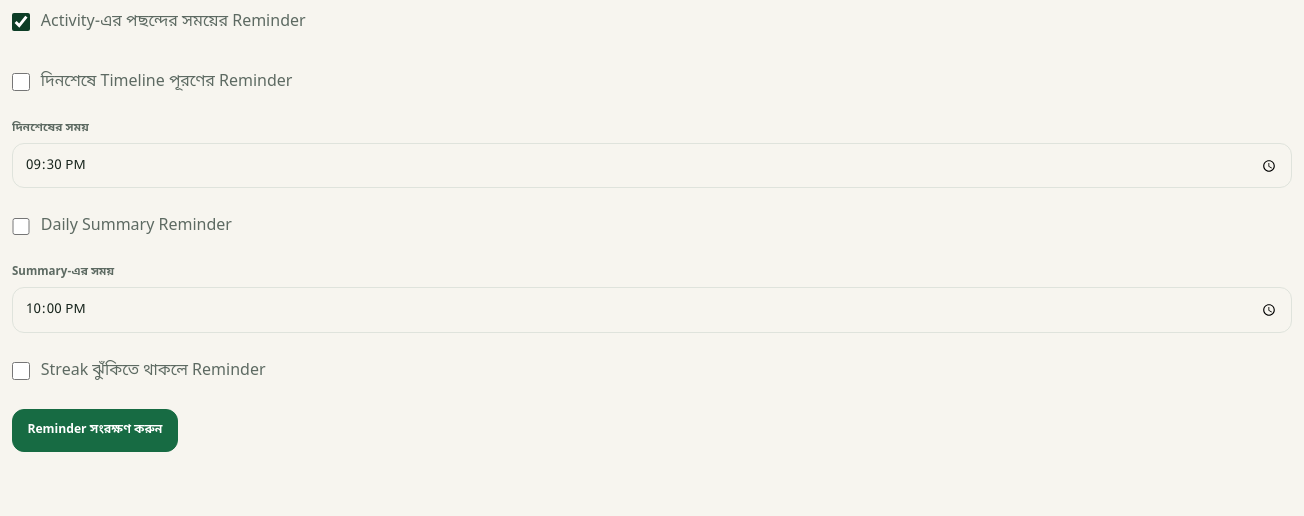
Test: ReminderSettingsForm › shows a recoverable message when the request fails
Click the button "Reminder সংরক্ষণ করুন" at (95, 430), box [12, 409, 178, 452]
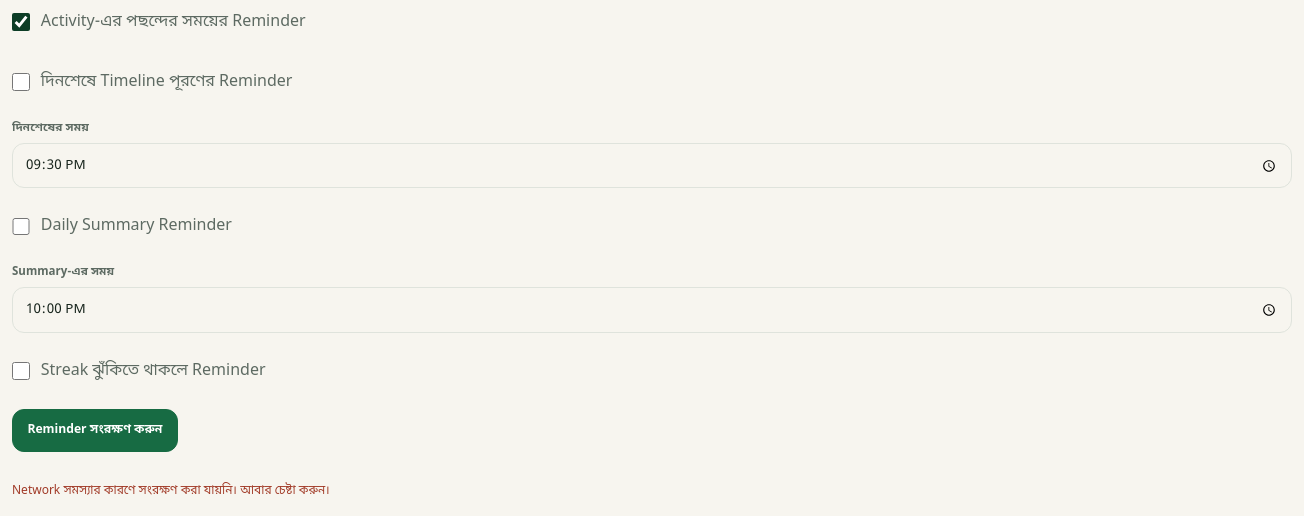
Now the message shows "Network সমস্যার কারণে", box [12, 484, 330, 500]
